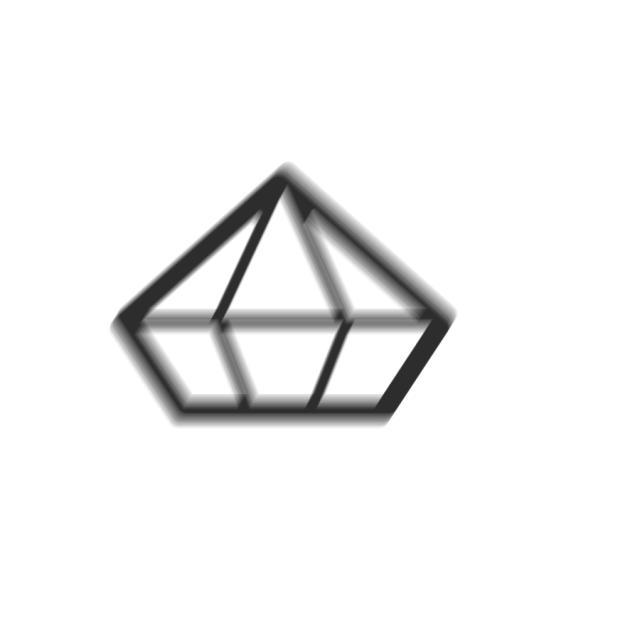diamond: (104, 153, 464, 437)
